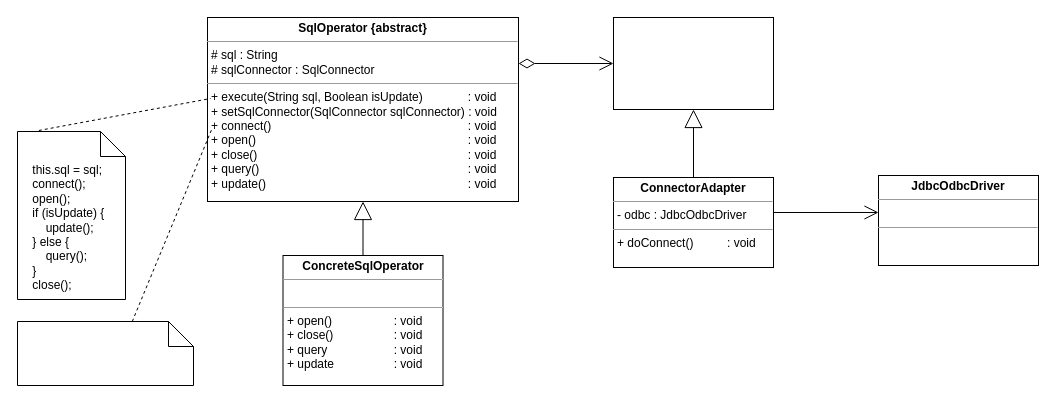
Some shapes in this 1056 by 403 pixel diagram are drawn without their labels. The shapes that lost their labels are listed below. From the top down, each one's centre as x and y in pixels, then its label:
[693,63]: SqlConnector {abstract} + doConnect() : void
[105,353]: sqlConnector.doConnect();
